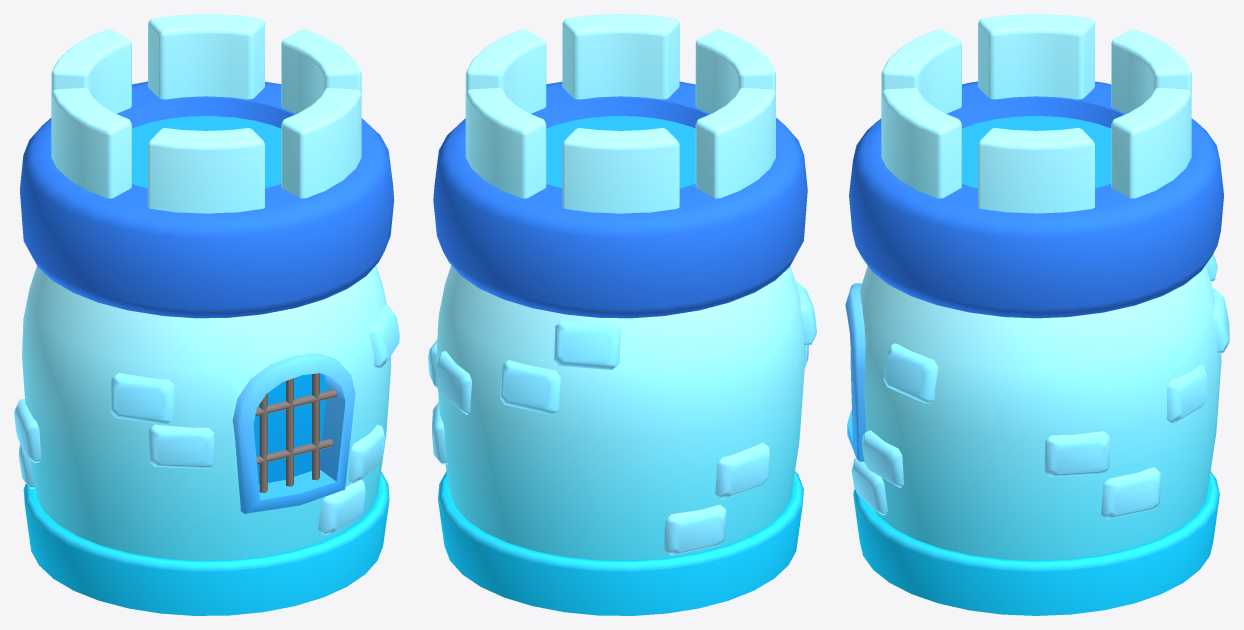
Rendered from tower_006.glb.
The picture shows the model from 3 angles, left to right: view 1: azimuth 30°, elevation 25°; view 2: azimuth 150°, elevation 25°; view 3: azimuth 270°, elevation 25°; orthographic projection.
Visible parts, largest first — view 1: tower_006; view 2: tower_006; view 3: tower_006.
Part boxes in pixels (left/top/right/bottom): tower_006: left=14, top=14, right=399, bottom=615; tower_006: left=428, top=14, right=816, bottom=615; tower_006: left=845, top=14, right=1229, bottom=615.
Size of the model in its own units: 5.93 by 7.87 by 5.93.
Materials: 1 (1 with a texture image).
